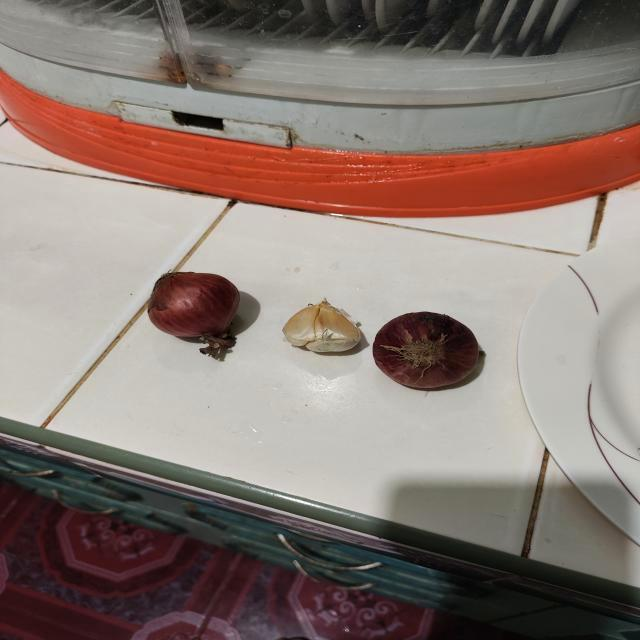garlic: (282, 294, 365, 359)
onion: (144, 267, 245, 360), (372, 310, 483, 390)
